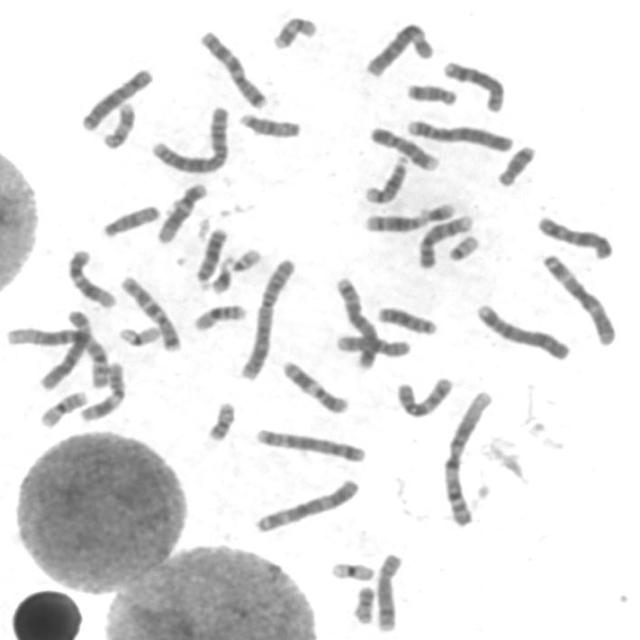A1: (437, 385, 496, 529), (2, 321, 113, 389)
A2: (234, 252, 298, 381), (146, 100, 231, 176)
A3: (538, 248, 620, 346), (249, 473, 362, 534)
B4: (472, 298, 573, 362), (402, 113, 516, 153)
B5: (250, 422, 368, 464), (330, 272, 380, 371)
C10: (392, 371, 456, 420), (331, 328, 413, 359)
C11: (277, 355, 351, 416), (74, 356, 128, 423)
C12: (152, 177, 210, 245), (62, 243, 118, 310)
C6: (34, 304, 93, 392), (360, 17, 436, 78)
C7: (194, 24, 270, 110), (115, 270, 184, 353)
C8: (438, 55, 508, 114), (371, 548, 405, 634)
C9: (365, 121, 440, 172), (413, 210, 475, 270)
D13: (190, 222, 230, 290), (373, 301, 439, 336)
D14: (359, 150, 412, 205), (360, 206, 430, 234)
D15: (96, 199, 163, 239), (235, 108, 303, 139)
E16: (34, 386, 89, 430), (188, 299, 249, 333)
E17: (268, 11, 320, 51), (98, 97, 137, 150)
E18: (492, 140, 538, 188), (401, 78, 460, 107)
F19: (113, 320, 163, 348), (325, 556, 377, 582)
F20: (202, 396, 238, 443), (348, 581, 377, 626)
G21: (207, 251, 237, 295), (415, 198, 457, 223)
G22: (443, 230, 482, 262), (225, 242, 263, 273)
X: (76, 62, 156, 132), (533, 210, 616, 261)
